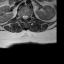CCS_normal: (24, 13, 26, 21)
LFS_stenosis: (28, 14, 30, 20)
LLS_normal: (26, 13, 28, 20)
RFS_normal: (20, 14, 22, 20)
RLS_normal: (22, 14, 24, 20)
